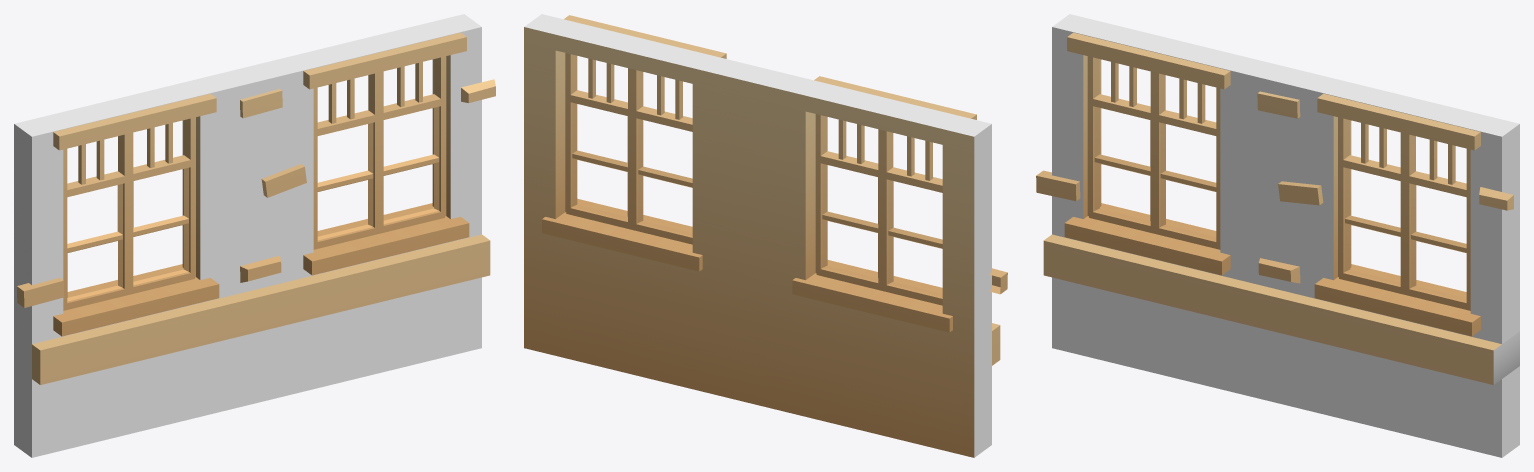
Rendered from base_outer_window.fbx.
The picture shows the model from 3 angles, left to right: view 1: azimuth 30°, elevation 25°; view 2: azimuth 150°, elevation 25°; view 3: azimuth 330°, elevation 25°; orthographic projection.
Parts seen in each view (by area): view 1: base.outer.window; view 2: base.outer.window; view 3: base.outer.window.
Boxes of the visible parts, x1,y1,x2,y2 form: base.outer.window: [14, 14, 495, 457]; base.outer.window: [524, 14, 1007, 457]; base.outer.window: [1036, 14, 1519, 457].
Size of the model in its own units: 463 by 300 by 50.51.
